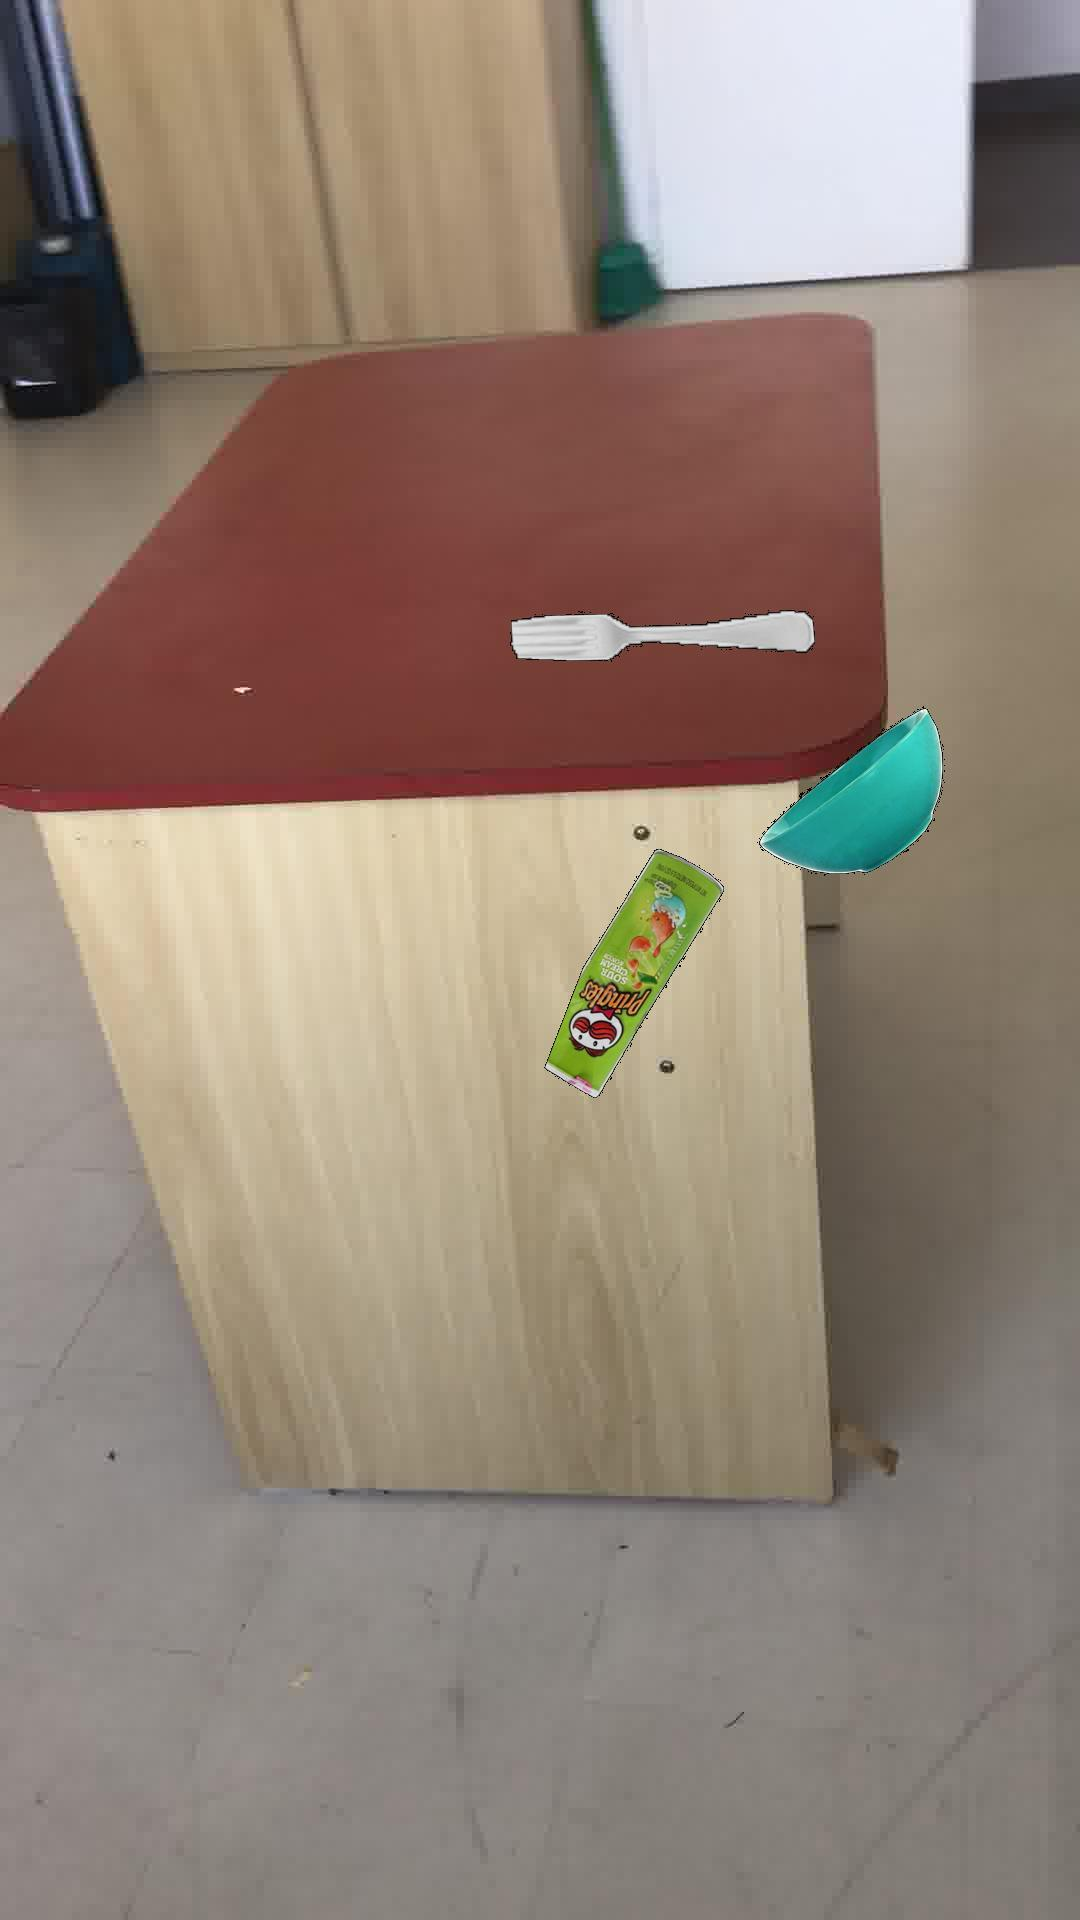bowl: (757, 704, 942, 873)
fork: (509, 608, 814, 659)
pringles: (542, 848, 723, 1097)
